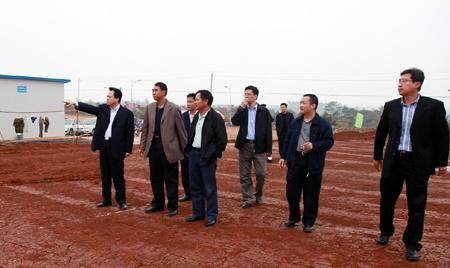NoHelmet: (398, 67, 425, 96), (300, 93, 319, 115), (106, 86, 122, 106), (152, 81, 168, 101)
